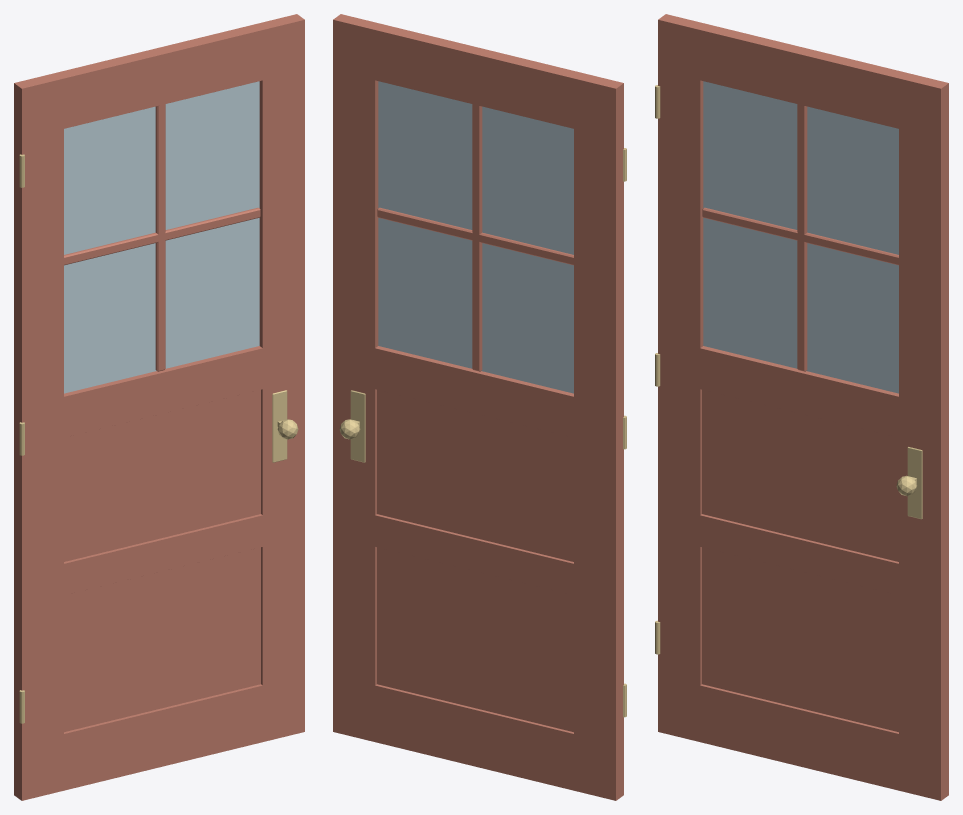
Rendered from door_back.glb.
The picture shows the model from 3 angles, left to right: view 1: azimuth 30°, elevation 25°; view 2: azimuth 150°, elevation 25°; view 3: azimuth 330°, elevation 25°; orthographic projection.
Parts seen in each view (by area): view 1: door_back_door, door_back_glass, door_back_brass; view 2: door_back_door, door_back_glass, door_back_brass; view 3: door_back_door, door_back_glass, door_back_brass.
Boxes of the visible parts, left/top/right/bottom form: door_back_door: left=14, top=14, right=304, bottom=800; door_back_glass: left=64, top=81, right=259, bottom=393; door_back_brass: left=19, top=154, right=298, bottom=723; door_back_door: left=333, top=14, right=623, bottom=800; door_back_glass: left=378, top=81, right=573, bottom=393; door_back_brass: left=339, top=148, right=626, bottom=717; door_back_door: left=658, top=14, right=948, bottom=800; door_back_glass: left=703, top=81, right=898, bottom=393; door_back_brass: left=655, top=85, right=922, bottom=654.
Size of the model in its own units: 0.948 by 2.26 by 0.205.
